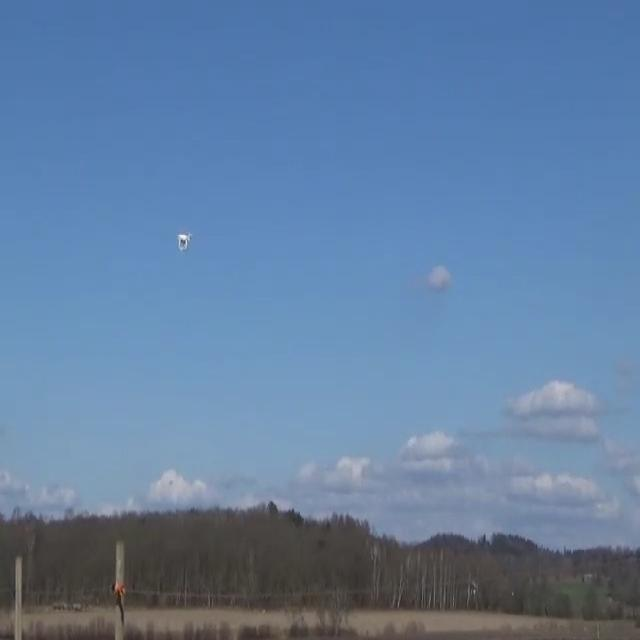drone: (176, 231, 192, 251)
